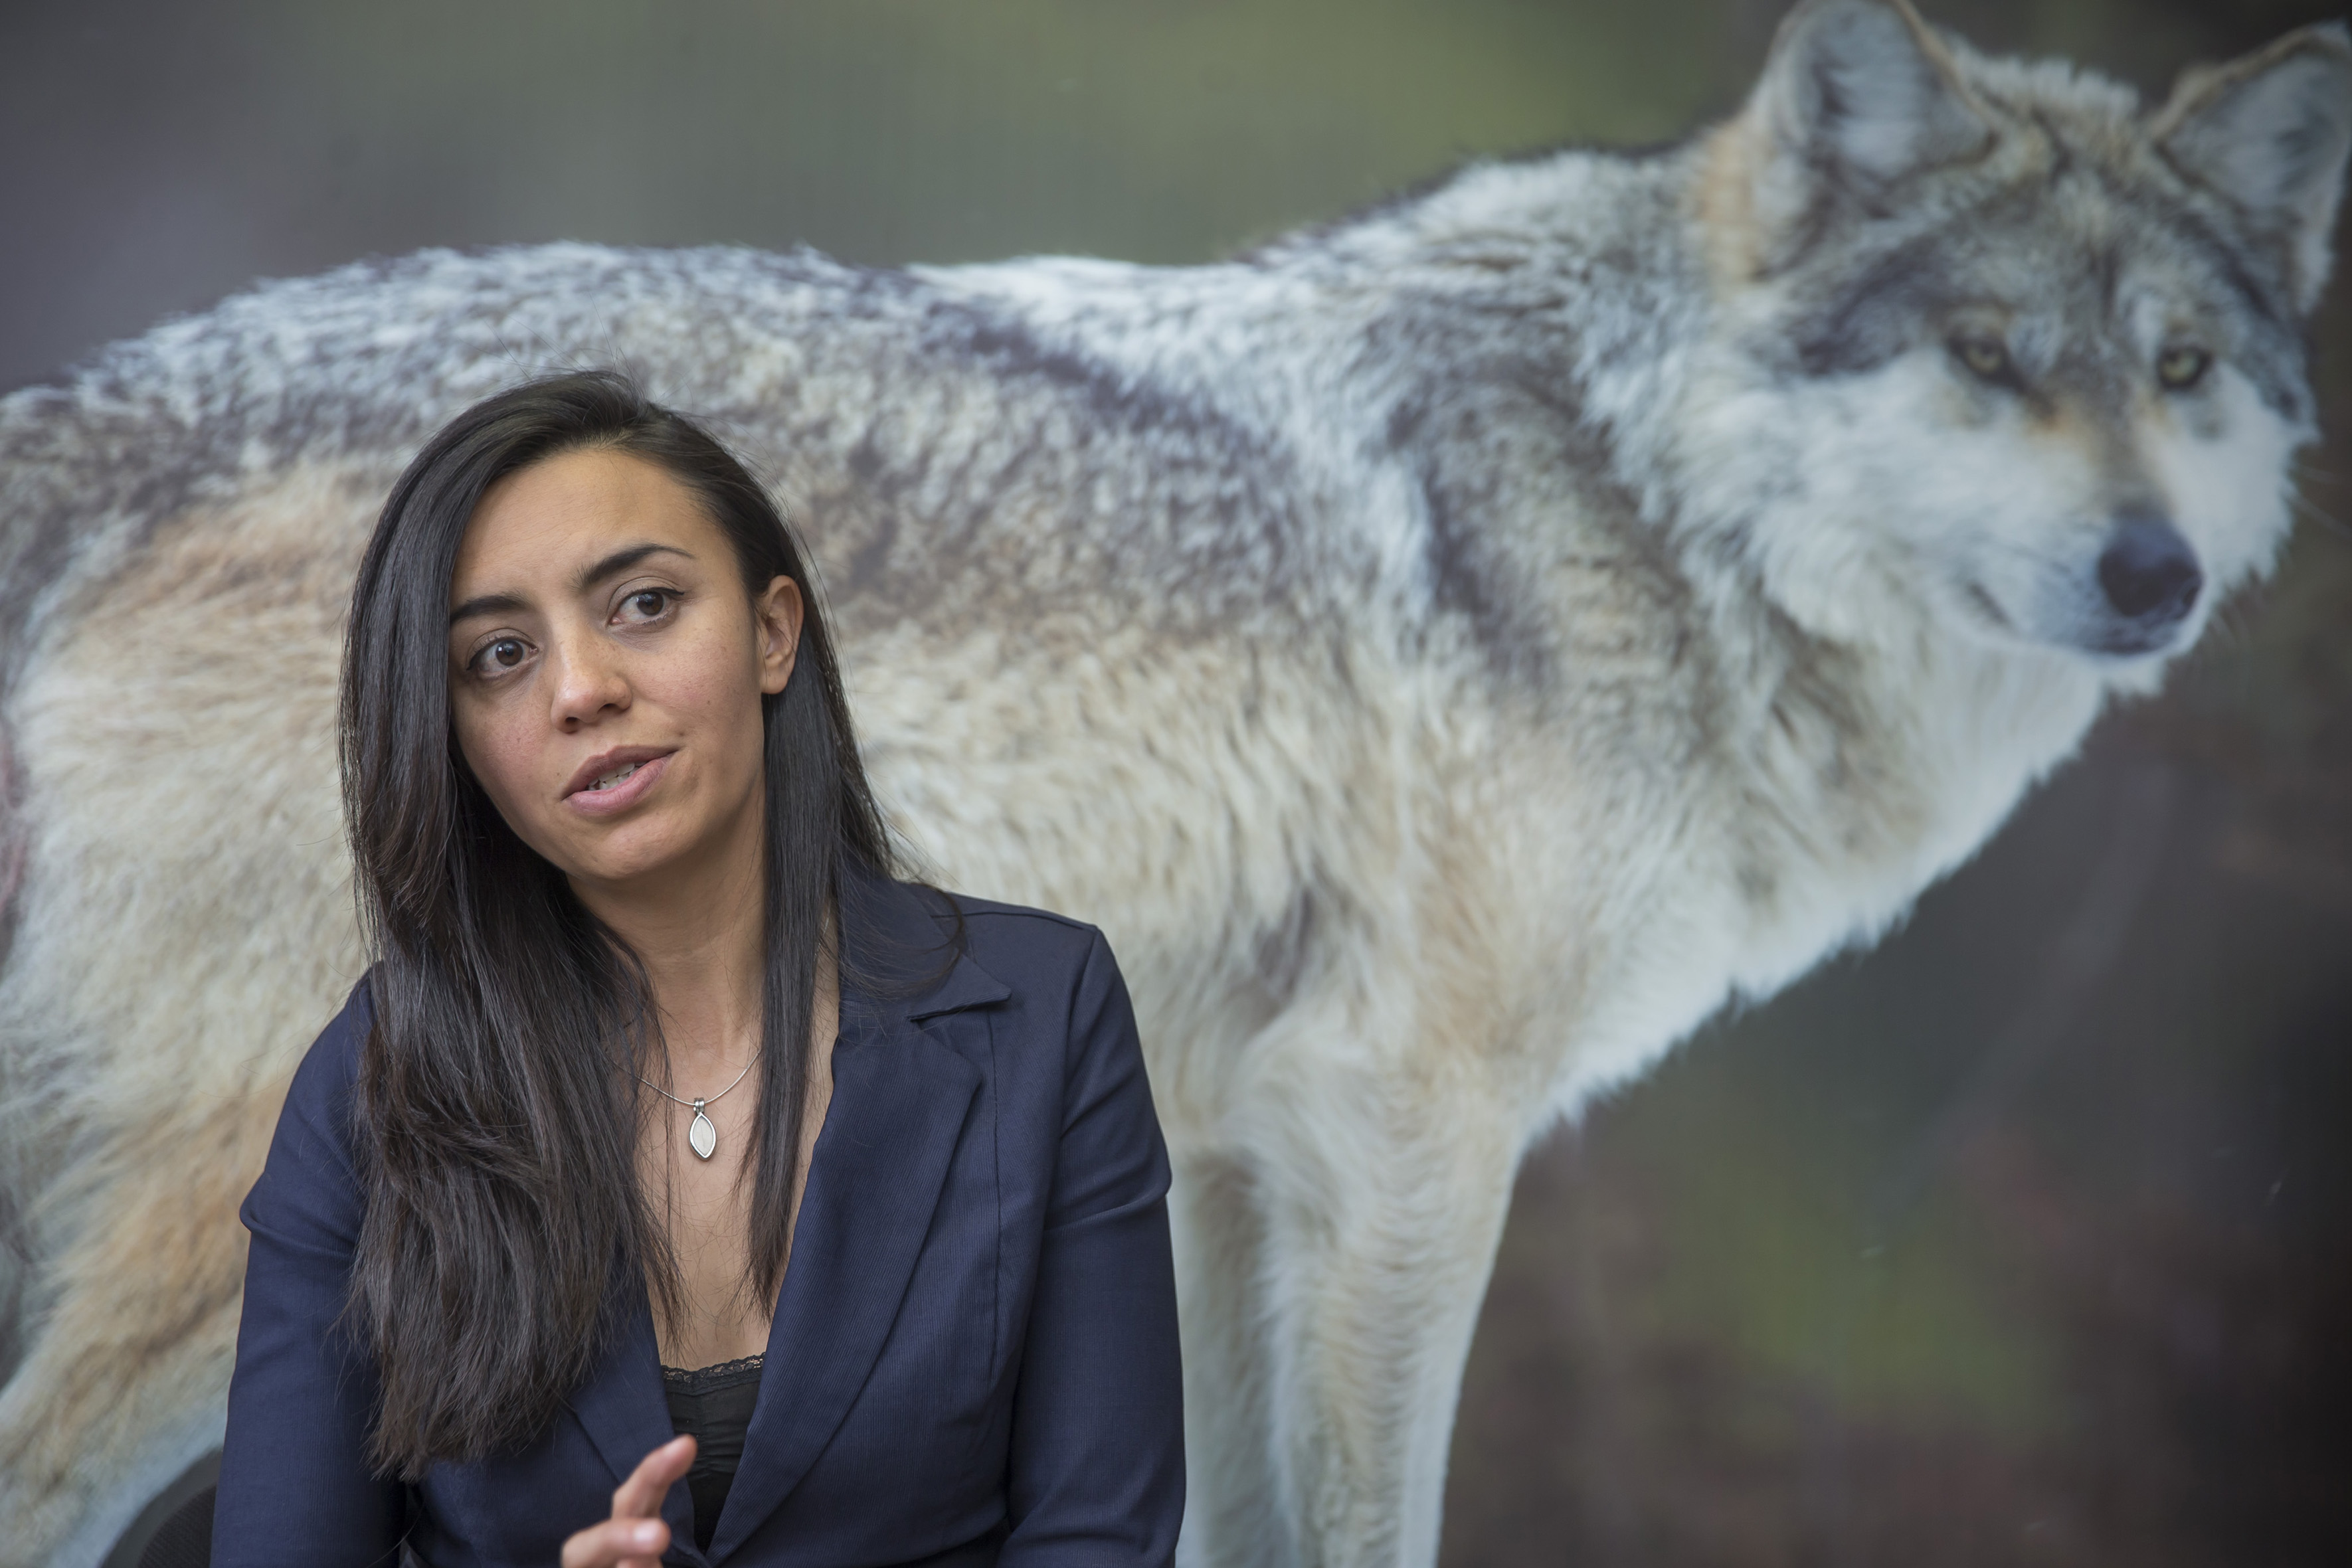Lobo: (1172, 2, 2348, 1041)
